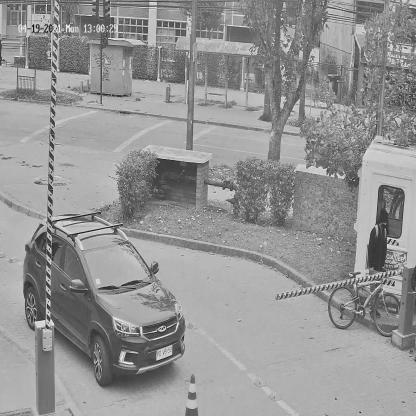Patente: (155, 342, 174, 362)
